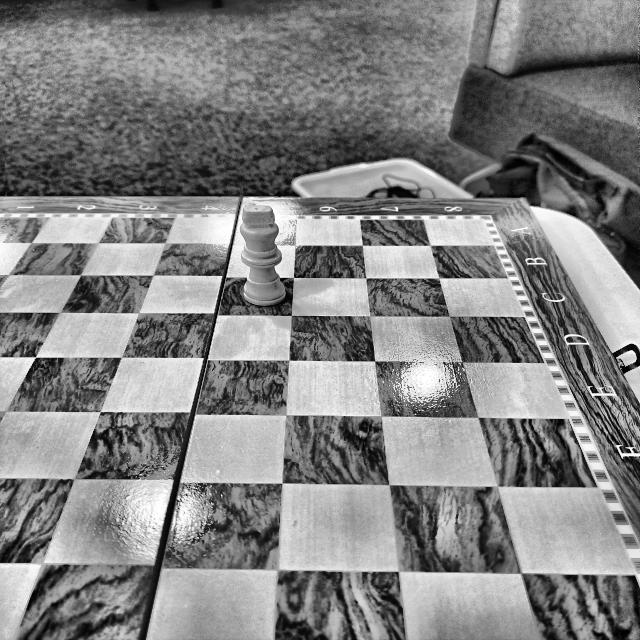white-king: (239, 205, 288, 307)
